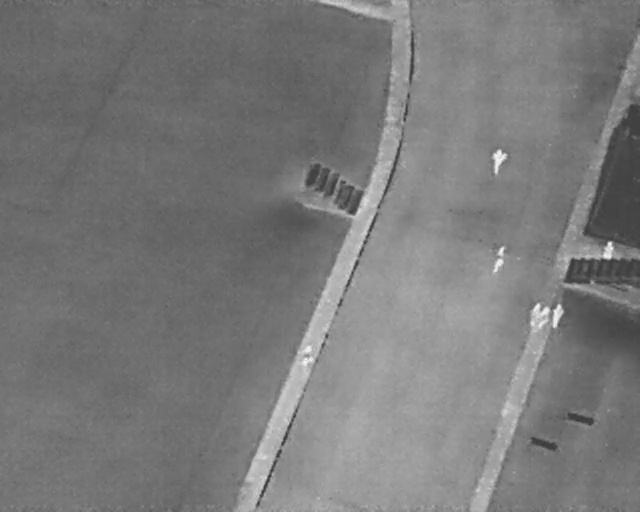Person: (489, 240, 510, 278), (488, 143, 510, 178), (547, 300, 566, 331), (526, 297, 542, 331), (299, 343, 318, 369), (535, 303, 553, 330), (601, 237, 616, 264)
